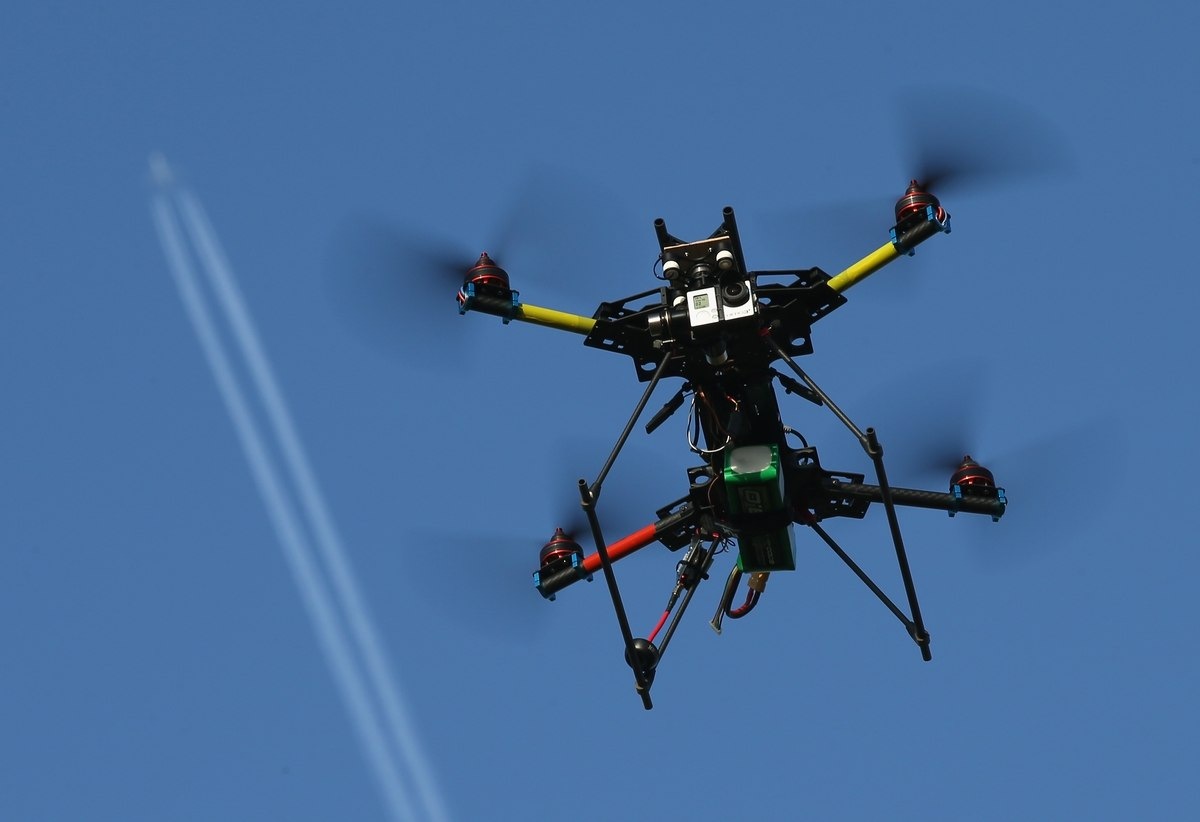drone: (319, 81, 1126, 717)
